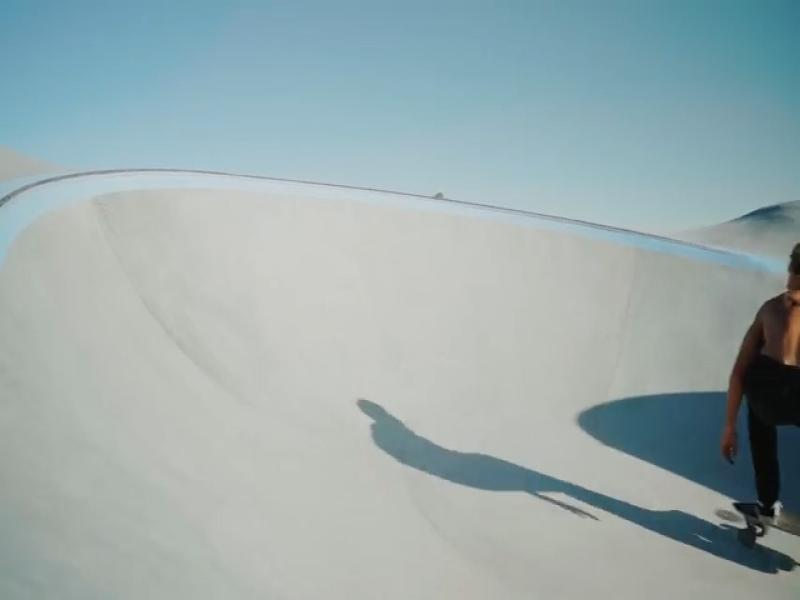person: (722, 244, 800, 535)
skate: (733, 500, 795, 542)
